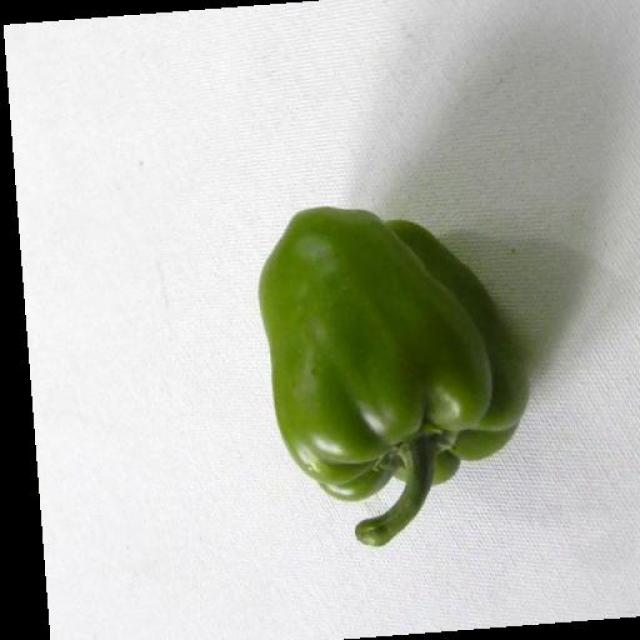Fresh_Capsicum: (224, 261, 523, 473)
